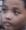without_mask: (1, 2, 26, 30)
